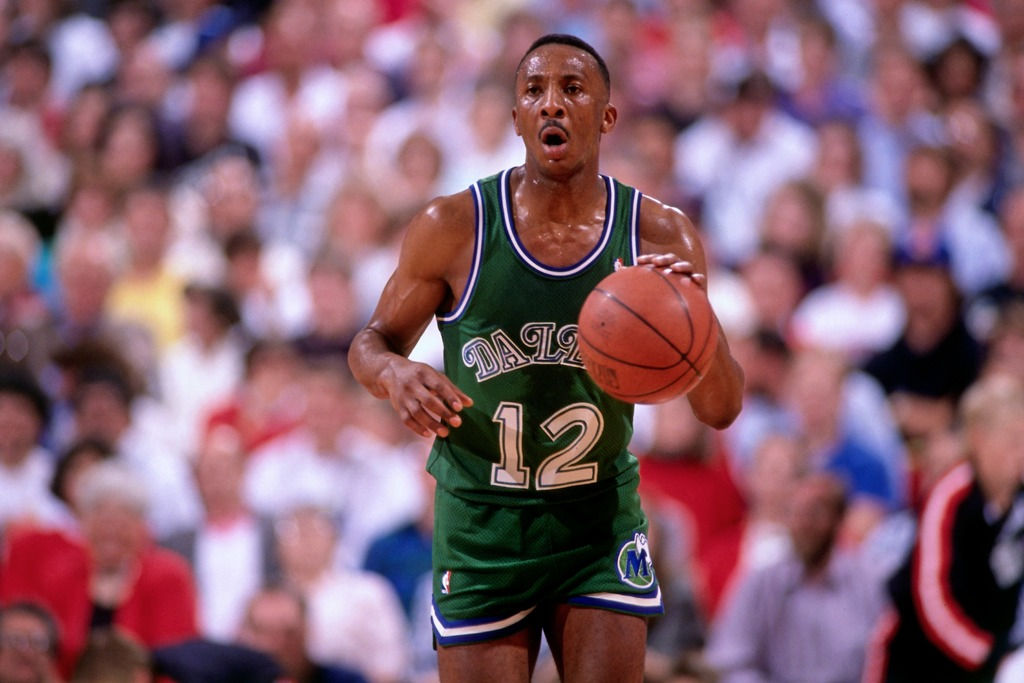Ball: (579, 265, 714, 406)
